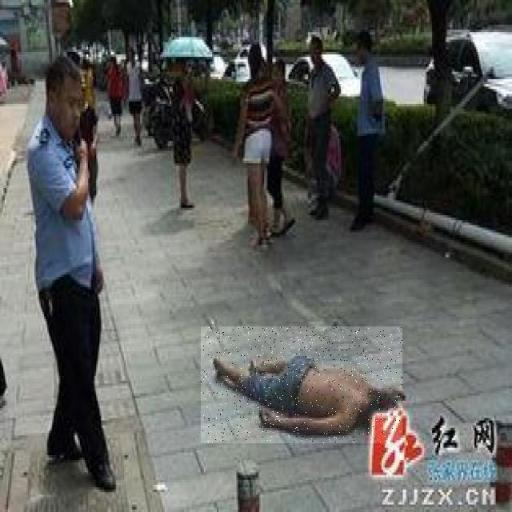Fall: (201, 327, 402, 444)
